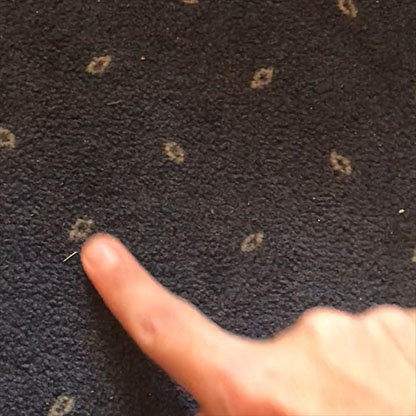fingertip: (75, 228, 134, 289)
